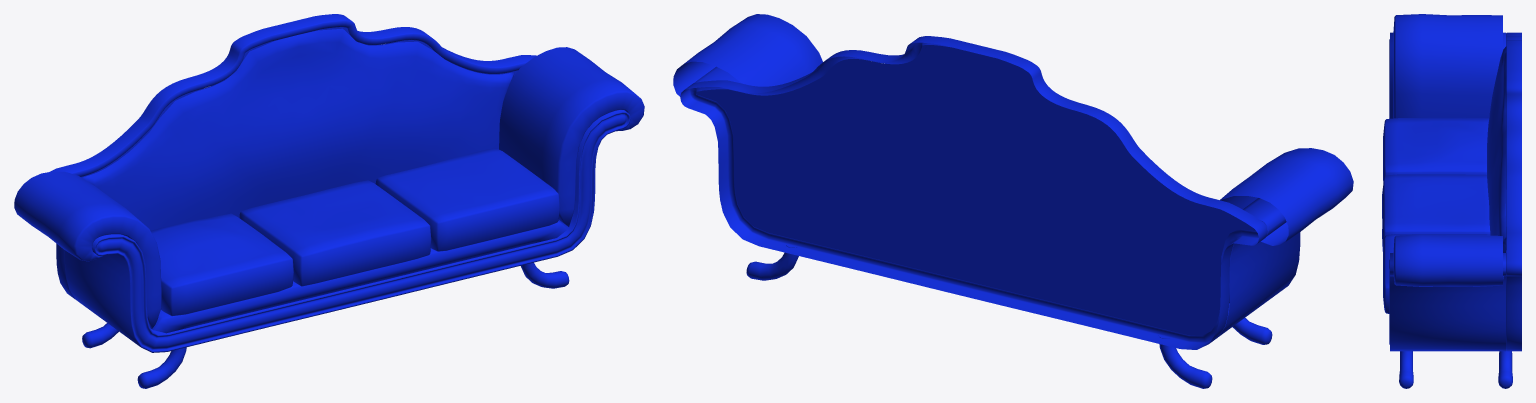
File: Sofa_Stylized_Low.fbx
3 views of the same model, side by side, from view 1: azimuth 30°, elevation 25°; view 2: azimuth 150°, elevation 25°; view 3: azimuth 270°, elevation 25° (orthographic). The views are drawn at different scales.
Parts seen in each view (by area): view 1: BezierCurve_007, BezierCurve_005, BezierCurve, BezierCurve_009_copy1, BezierCurve_008, BezierCurve_009, BezierCurve.002, BezierCurve_004, BezierCurve.010, BezierCurve.003; view 2: BezierCurve.003, BezierCurve.002, BezierCurve_005, BezierCurve, BezierCurve.010; view 3: BezierCurve_005, BezierCurve, BezierCurve_009_copy1, BezierCurve_009, BezierCurve.002, BezierCurve_007, BezierCurve.010, BezierCurve_008.
Part boxes in pixels (x1,y1,x2,y2): BezierCurve_007: (82, 28, 514, 230); BezierCurve_005: (14, 47, 644, 328); BezierCurve: (65, 110, 630, 352); BezierCurve_009_copy1: (239, 180, 431, 286); BezierCurve_008: (375, 148, 559, 251); BezierCurve_009: (150, 213, 293, 316); BezierCurve.002: (50, 14, 536, 299); BezierCurve_004: (152, 221, 567, 333); BezierCurve.010: (82, 262, 569, 388); BezierCurve.003: (81, 27, 517, 177); BezierCurve.003: (696, 45, 1255, 335); BezierCurve.002: (680, 36, 1267, 349); BezierCurve_005: (673, 14, 1353, 270); BezierCurve: (694, 66, 1300, 336); BezierCurve.010: (746, 245, 1272, 388); BezierCurve_005: (1393, 14, 1504, 286); BezierCurve: (1389, 32, 1506, 351); BezierCurve_009_copy1: (1382, 174, 1490, 251); BezierCurve_009: (1383, 117, 1489, 182); BezierCurve.002: (1506, 32, 1521, 351); BezierCurve_007: (1487, 46, 1506, 252); BezierCurve.010: (1399, 351, 1512, 388); BezierCurve_008: (1383, 234, 1490, 313).
Bounding box in the file's own units: 411 × 184 × 97.63.
